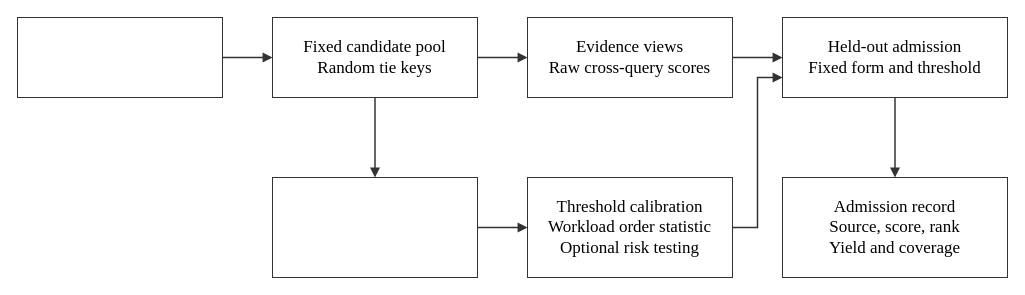
Image size: 1025x295. Some labels were removed from this diagram. The shapes that lost their labels are listed below. From the top down, each one's centre as x and y in pixels, then its label:
pixel 119 57: Original corpus Sentence identities Verified text
pixel 375 227: Fitting queries View transforms and models Scoring-form selection
